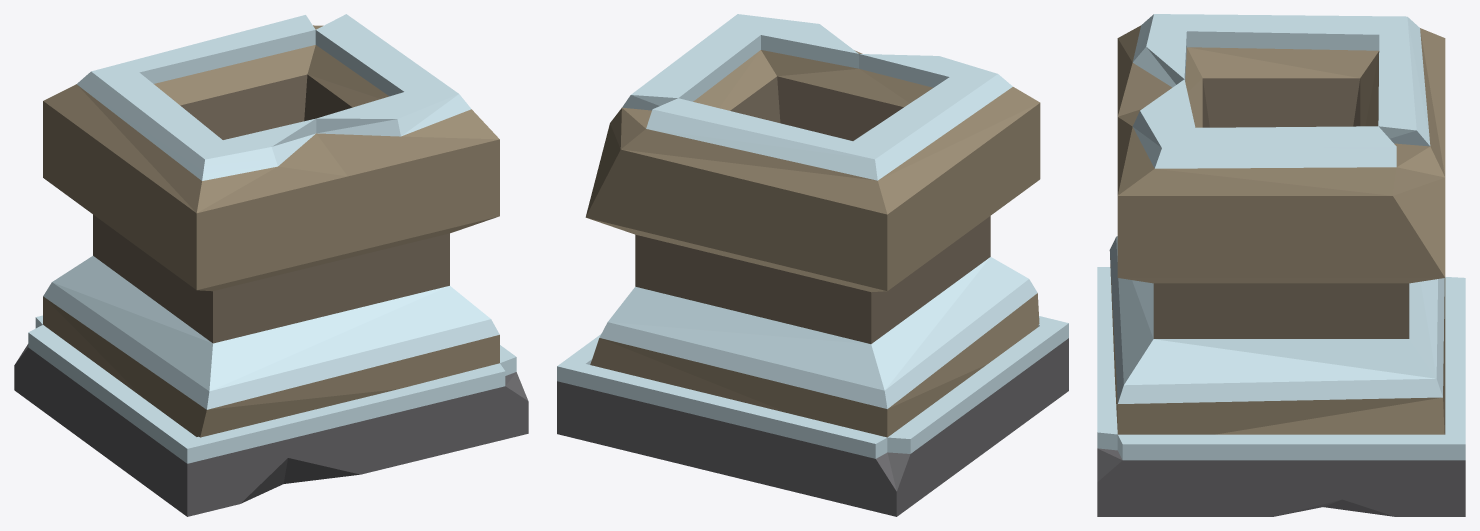
The model's file is SM_Bld_House_Chimney_05_Snow.gltf.
3 renders of one model, left to right at view 1: azimuth 30°, elevation 25°; view 2: azimuth 150°, elevation 25°; view 3: azimuth 270°, elevation 25°, orthographic. The views are drawn at different scales.
Visible parts, largest first — view 1: SM_Bld_House_Chimney_05_Snow; view 2: SM_Bld_House_Chimney_05_Snow; view 3: SM_Bld_House_Chimney_05_Snow.
Part boxes in pixels (<box>): SM_Bld_House_Chimney_05_Snow: <box>14,14,528,516</box>; SM_Bld_House_Chimney_05_Snow: <box>557,14,1068,516</box>; SM_Bld_House_Chimney_05_Snow: <box>1097,14,1465,516</box>.
Size of the model in its own units: 0.9577 by 1.01 by 0.8405.
1 material, 1 textured.
